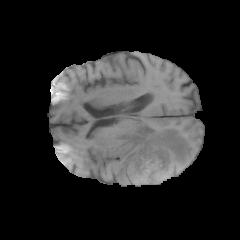glioma: (112, 126, 190, 185)
